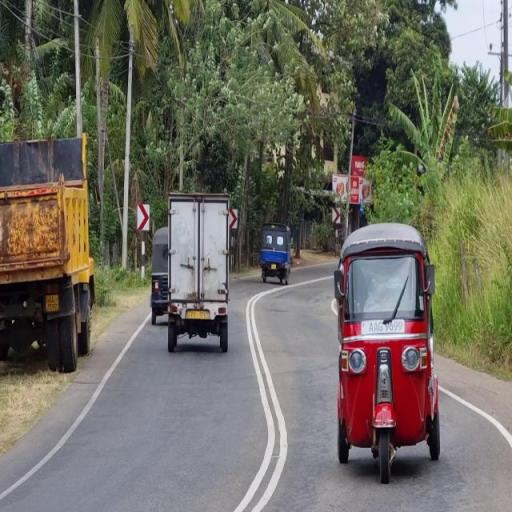double_white_line: (0, 314, 147, 500), (240, 288, 290, 511), (440, 386, 512, 447)
